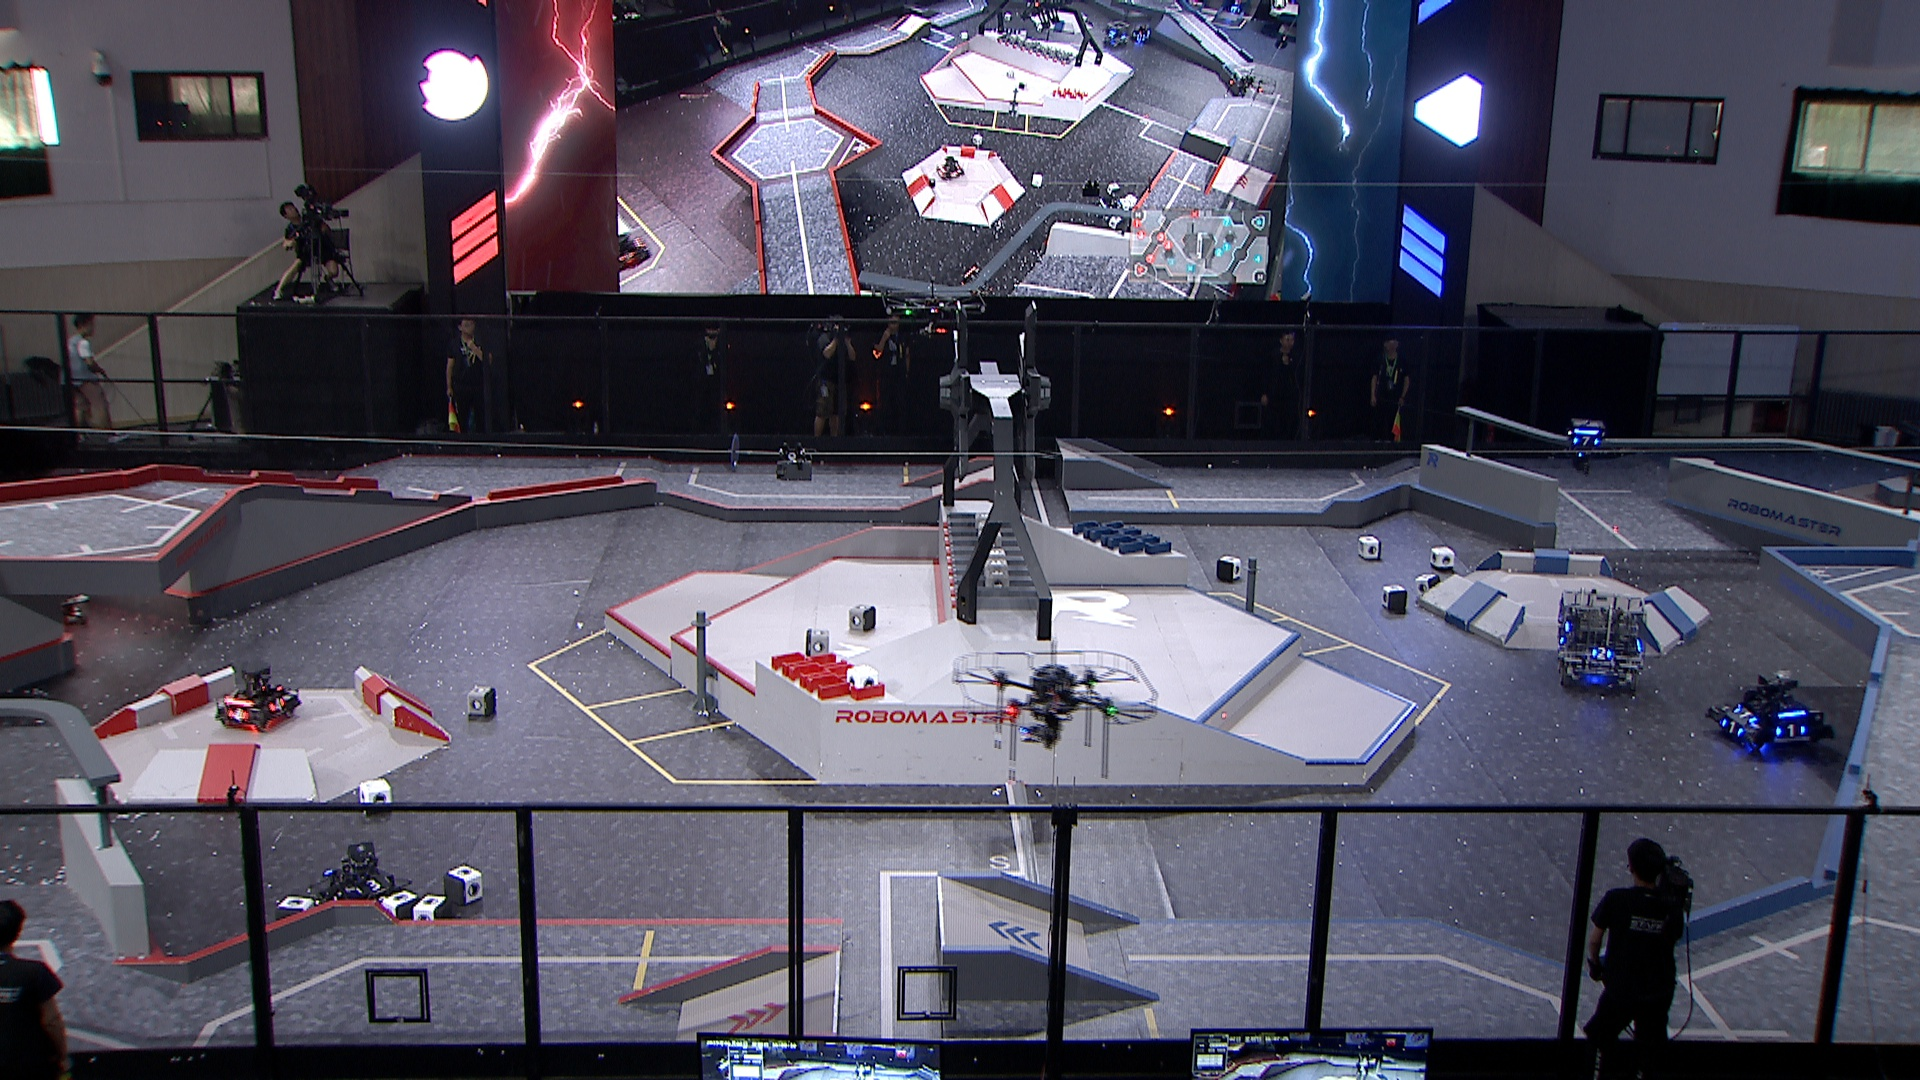armor: (359, 876, 389, 895), (1721, 717, 1743, 738), (1774, 725, 1807, 738), (1733, 704, 1754, 723), (1589, 645, 1613, 659), (269, 695, 287, 713), (1575, 436, 1600, 450), (228, 708, 248, 723)
car: (1712, 670, 1836, 760), (1552, 589, 1650, 692), (309, 837, 404, 913), (210, 659, 305, 732), (25, 568, 100, 638)
ignore: (613, 225, 651, 268), (1102, 16, 1135, 45), (935, 156, 963, 178), (1129, 24, 1149, 45)
watcher: (1564, 414, 1607, 477)
